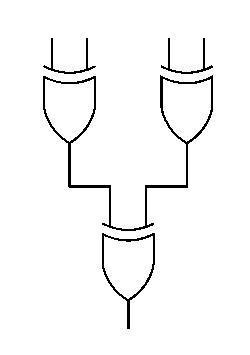xor: (157, 60, 216, 150), (99, 218, 158, 306), (40, 61, 99, 148)
